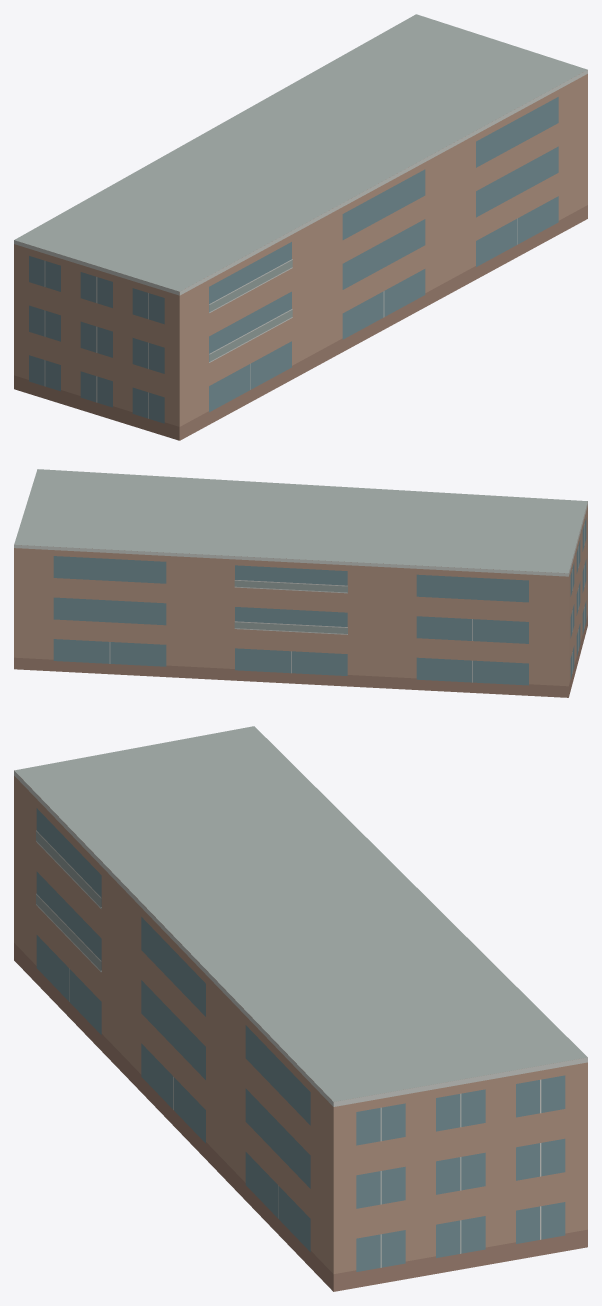
File: survey-upis-32629795.glb
3 renders of one model, top to bottom at view 1: azimuth 30°, elevation 25°; view 2: azimuth 150°, elevation 25°; view 3: azimuth 270°, elevation 25°, orthographic. The views are drawn at different scales.
Visible parts, largest first — view 1: survey-upis-32629795.tmp; view 2: survey-upis-32629795.tmp; view 3: survey-upis-32629795.tmp.
Part boxes in pixels (left/top/right/bottom): survey-upis-32629795.tmp: left=14, top=14, right=587, bottom=440; survey-upis-32629795.tmp: left=14, top=469, right=587, bottom=697; survey-upis-32629795.tmp: left=14, top=726, right=587, bottom=1291.
Bounding box in the file's own units: 38.86 × 9.15 × 25.07.
